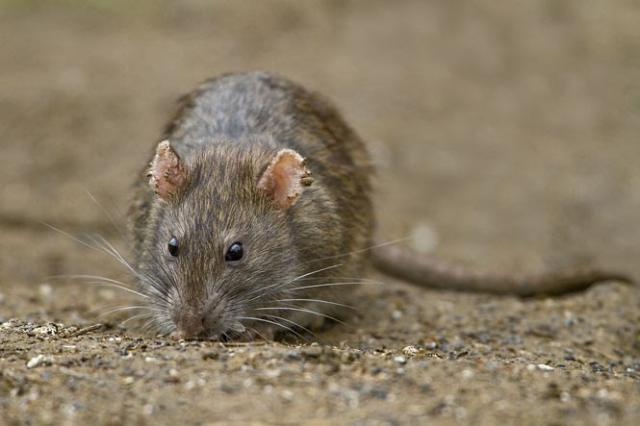rat: (81, 58, 447, 358)
